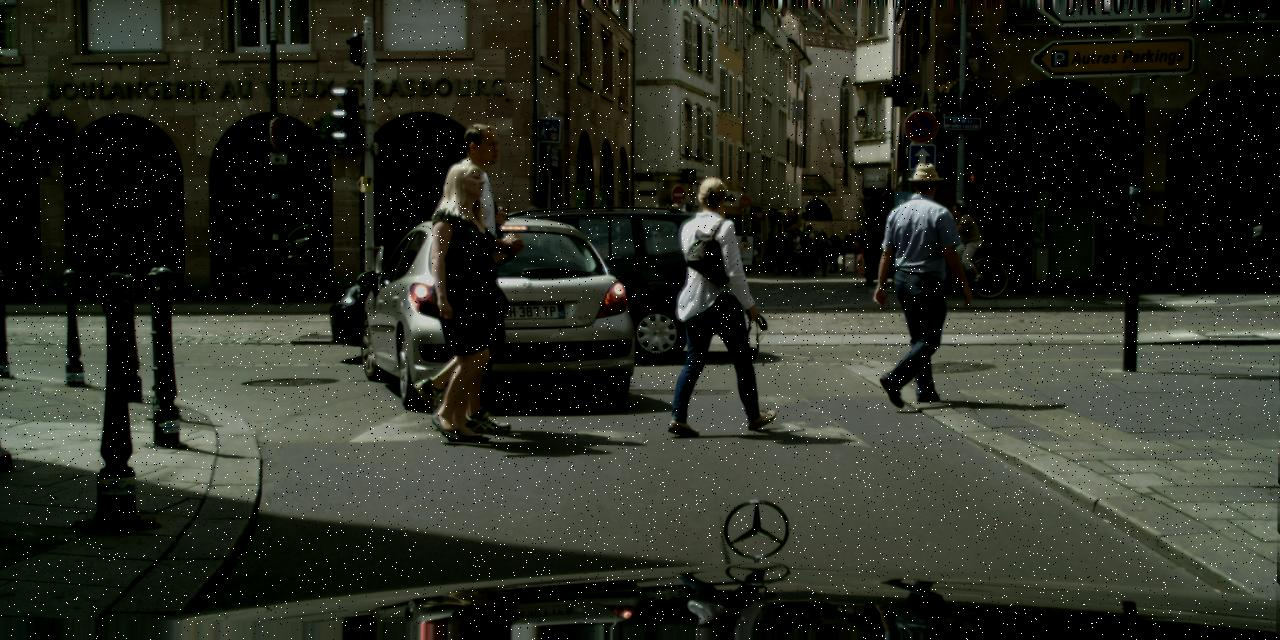ped: (413, 123, 539, 432), (405, 161, 519, 441), (664, 175, 769, 432), (870, 162, 969, 404), (945, 202, 977, 282), (798, 224, 819, 276), (770, 230, 788, 275), (802, 226, 820, 271), (814, 231, 832, 276), (788, 230, 806, 274), (741, 232, 757, 272), (778, 232, 794, 271), (838, 234, 853, 272), (761, 232, 776, 270), (810, 230, 824, 269), (826, 236, 840, 272), (848, 235, 862, 268), (846, 232, 857, 259)
